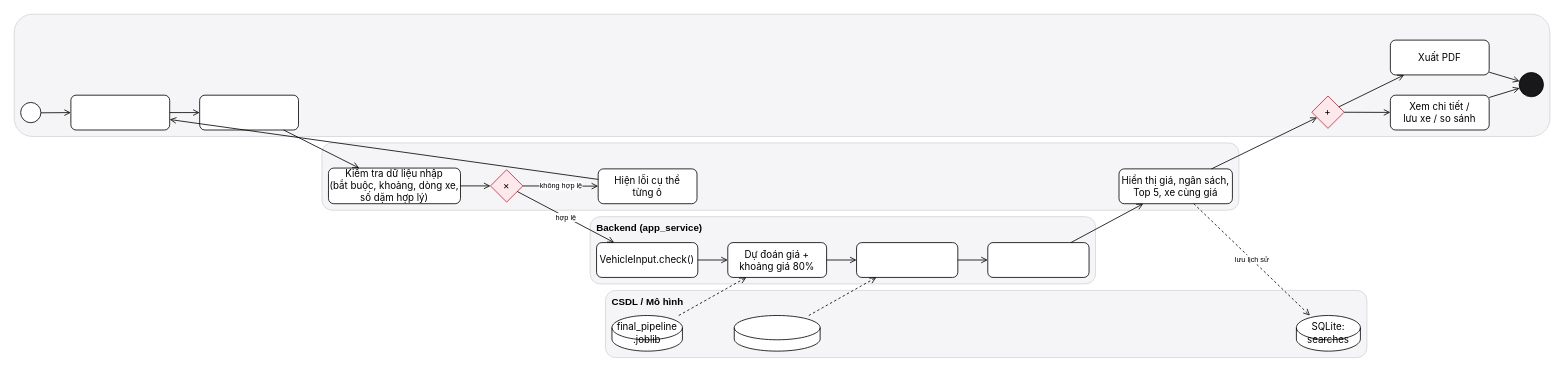
This 1564x372 diagram has some shape labels left out. Here are the shapes that lost their labels. From the top down, the box of each, then its label:
(13, 13, 1550, 136): Người dùng
(70, 94, 170, 130): Nhập thông số xe và ngân sách
(199, 94, 298, 130): Bấm ANALYZE & FIND CARS
(321, 142, 1239, 210): Giao diện PyQt6
(856, 242, 958, 277): Lọc ngân sách, KNN xếp hạng Top 5
(987, 242, 1089, 277): Tìm xe cùng mức giá + gắn ảnh
(733, 315, 820, 351): recommendation _catalog.pkl
